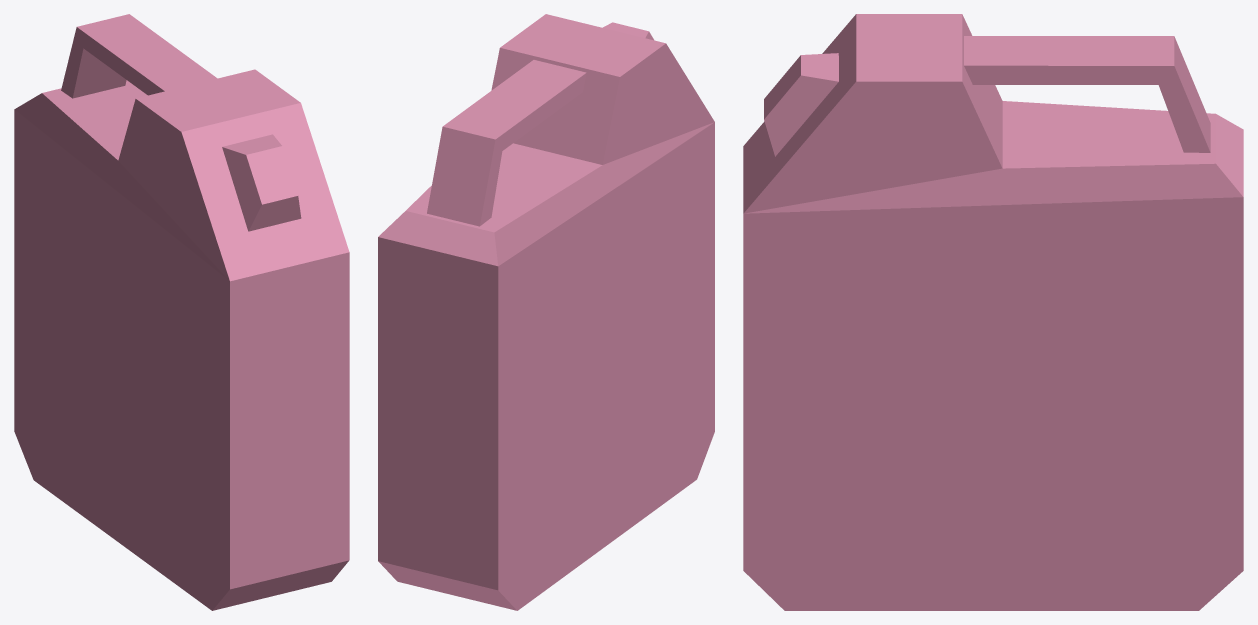
The model's file is fuel_tank.obj.
The picture shows the model from 3 angles, left to right: view 1: azimuth 30°, elevation 25°; view 2: azimuth 150°, elevation 25°; view 3: azimuth 270°, elevation 25°; orthographic projection. The views are drawn at different scales.
Visible parts, largest first — view 1: Box01; view 2: Box01; view 3: Box01.
Boxes of the visible parts, <box> form: Box01: <box>14,14,349,610</box>; Box01: <box>378,14,714,610</box>; Box01: <box>743,14,1243,610</box>.
Size of the model in its own units: 16.25 by 59.27 by 50.74.
